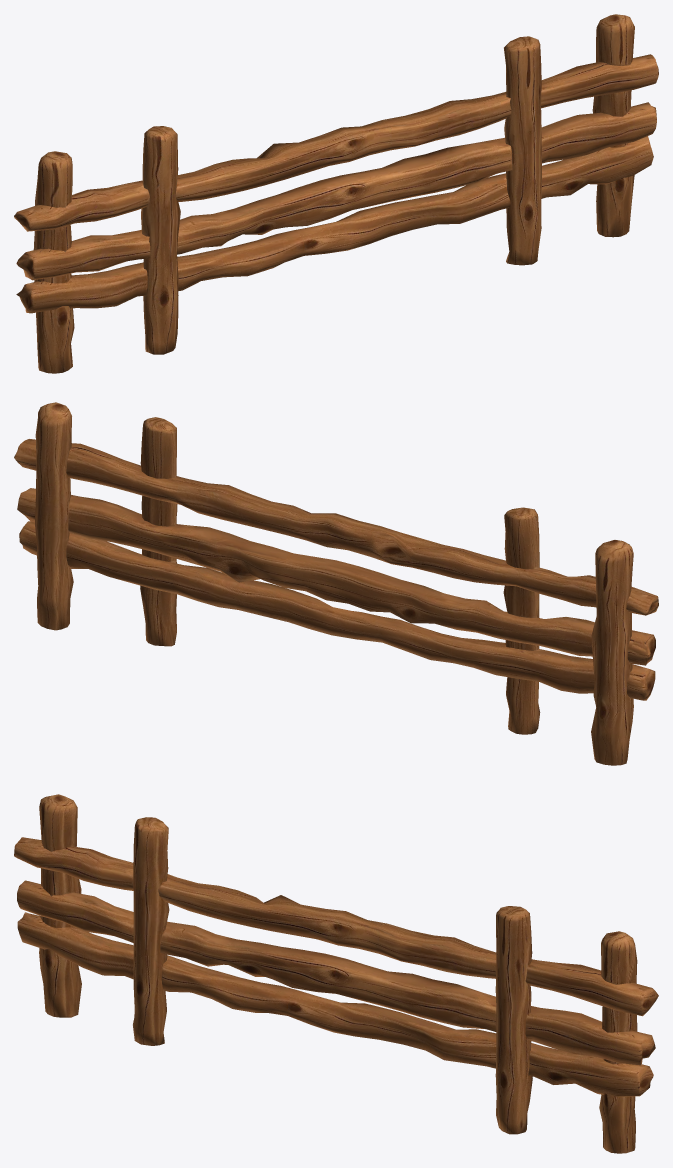
Rendered from fence_splitrail.glb.
The picture shows the model from 3 angles, top to bottom: view 1: azimuth 30°, elevation 25°; view 2: azimuth 150°, elevation 25°; view 3: azimuth 330°, elevation 25°; orthographic projection.
Size of the model in its own units: 0.957 by 0.3179 by 0.0688.
1 material, 1 textured.
